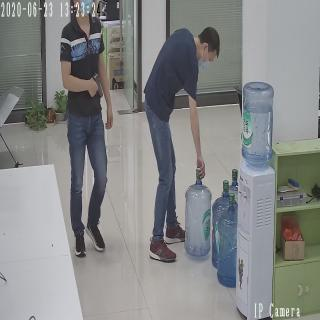gun: (88, 71, 104, 100)
